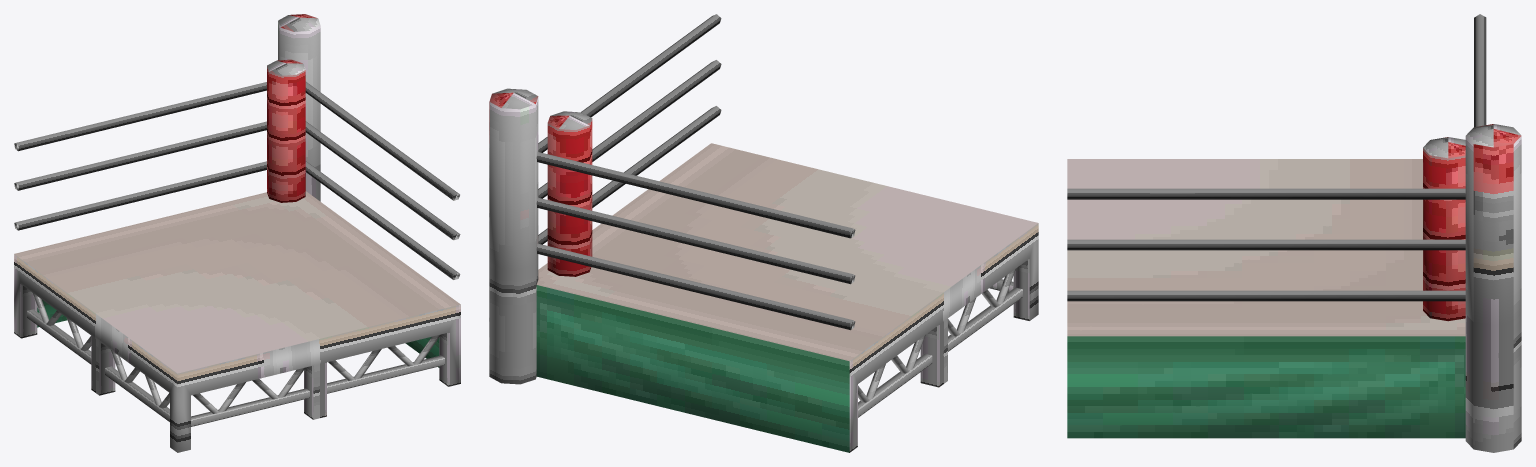
Rendered from int_wrs_bedW01.dae.
3 views of the same model, side by side, from view 1: azimuth 30°, elevation 25°; view 2: azimuth 150°, elevation 25°; view 3: azimuth 270°, elevation 25° (orthographic). The views are drawn at different scales.
Parts seen in each view (by area): view 1: int_wrs_bedW01; view 2: int_wrs_bedW01; view 3: int_wrs_bedW01.
Boxes of the visible parts, bbox=[...] form: int_wrs_bedW01: bbox=[14, 14, 460, 452]; int_wrs_bedW01: bbox=[489, 14, 1038, 452]; int_wrs_bedW01: bbox=[1067, 14, 1521, 452].
Bounding box in the file's own units: 64.72 × 49.1 × 64.72.
Materials: 2 (2 with a texture image).
